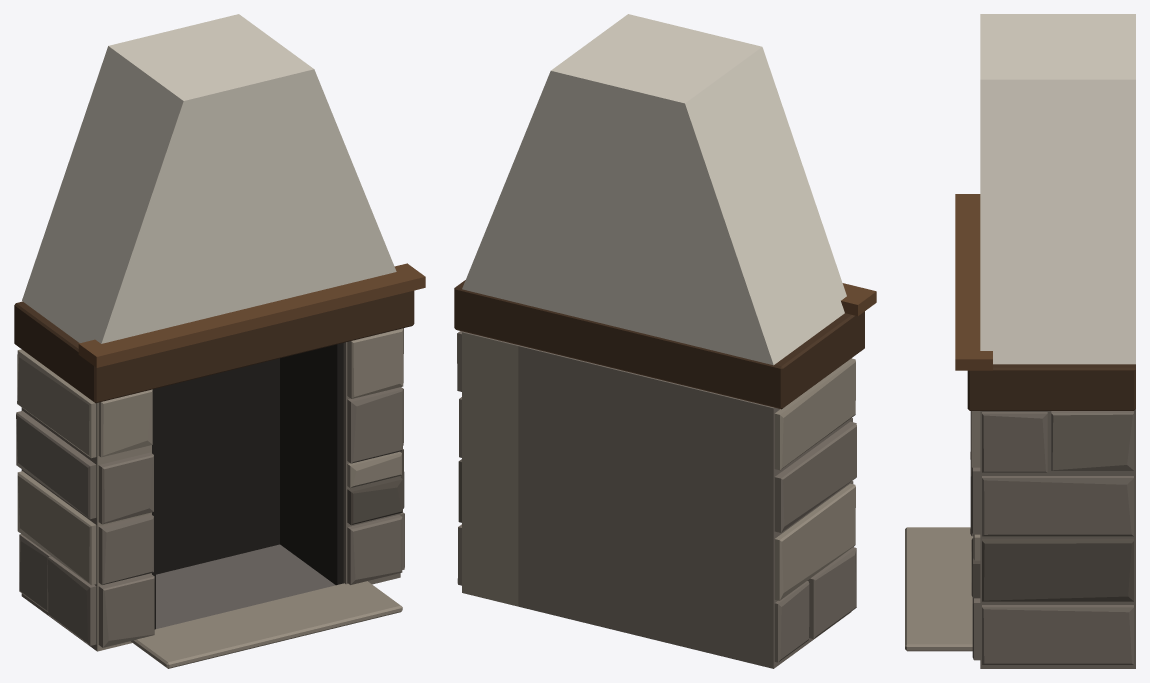
The model's file is mdvl_village_hearth_01.glb.
3 renders of one model, left to right at view 1: azimuth 30°, elevation 25°; view 2: azimuth 150°, elevation 25°; view 3: azimuth 270°, elevation 25°, orthographic. The views are drawn at different scales.
Visible parts, largest first — view 1: mdvl_village_hearth_01; view 2: mdvl_village_hearth_01; view 3: mdvl_village_hearth_01.
Boxes of the visible parts, x1,y1,x2,y2 form: mdvl_village_hearth_01: (14, 14, 425, 668); mdvl_village_hearth_01: (454, 14, 876, 668); mdvl_village_hearth_01: (905, 14, 1135, 668).
Bounding box in the file's own units: 1.56 × 2.4 × 0.92.
Materials: 1 (1 with a texture image).
